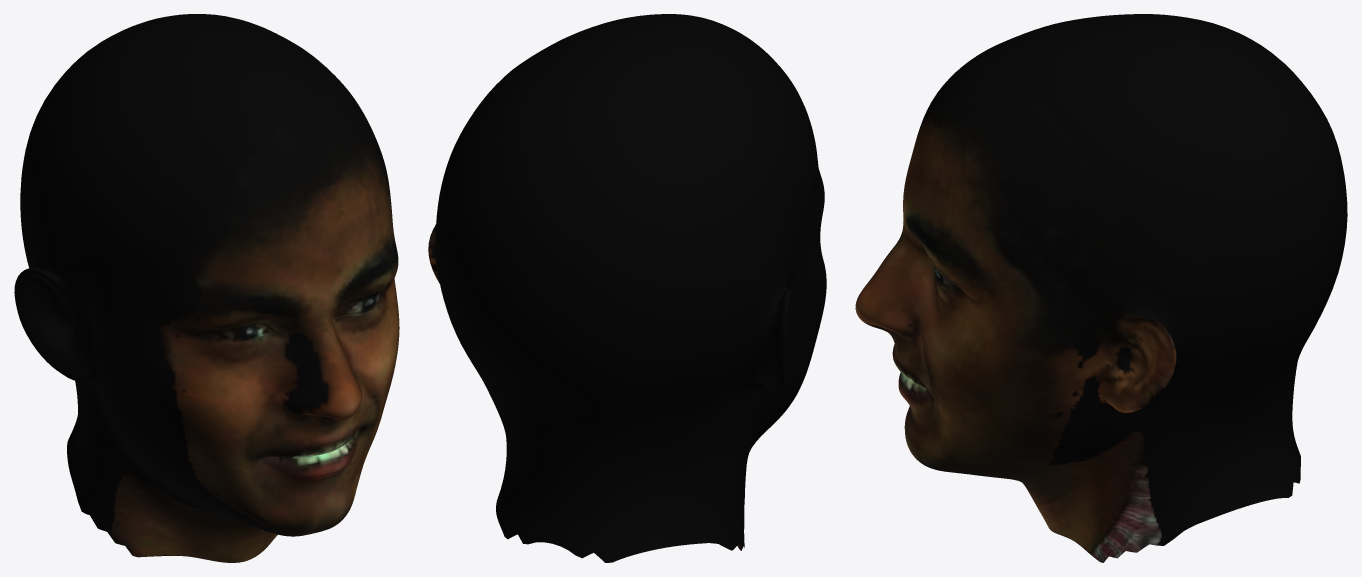
The model's file is shakthi.glb.
3 views of the same model, side by side, from view 1: azimuth 30°, elevation 25°; view 2: azimuth 150°, elevation 25°; view 3: azimuth 270°, elevation 25° (orthographic). The views are drawn at different scales.
Parts seen in each view (by area): view 1: FaceBuilderHead; view 2: FaceBuilderHead; view 3: FaceBuilderHead.
Boxes of the visible parts, <box> form: FaceBuilderHead: <box>14,14,399,562</box>; FaceBuilderHead: <box>428,14,826,562</box>; FaceBuilderHead: <box>855,14,1347,562</box>.
Bounding box in the file's own units: 1.81 × 2.42 × 2.16.
1 material, 1 textured.
